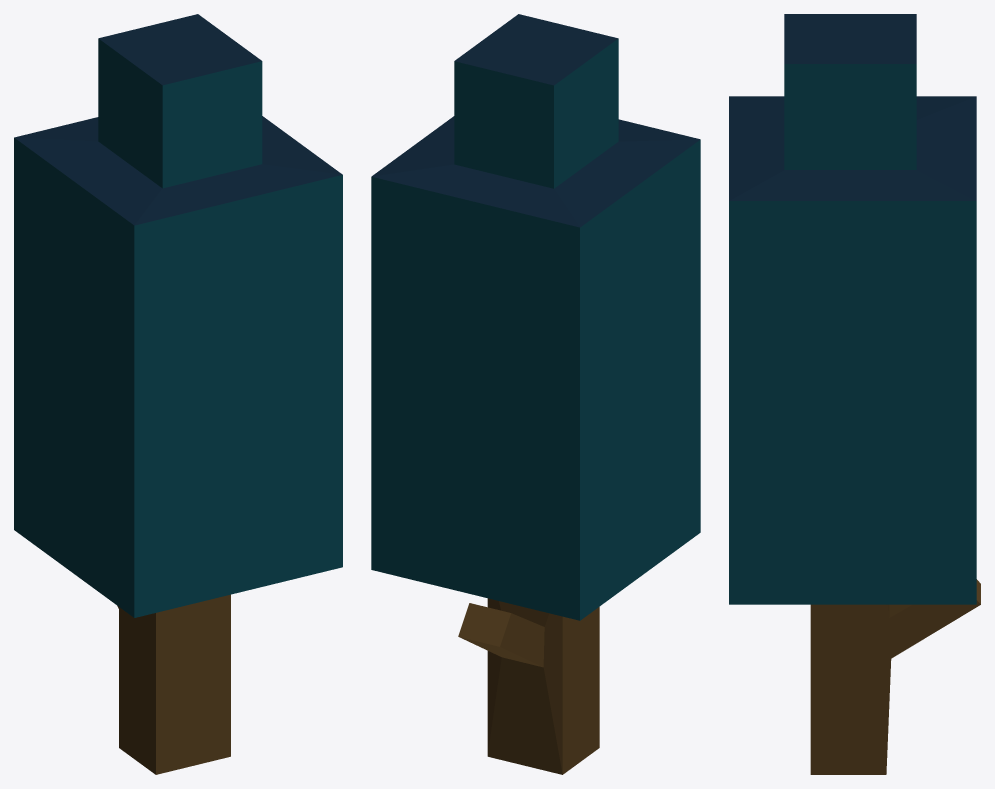
Rendered from Tree_Birch.fbx.
3 renders of one model, left to right at view 1: azimuth 30°, elevation 25°; view 2: azimuth 150°, elevation 25°; view 3: azimuth 270°, elevation 25°, orthographic. The views are drawn at different scales.
Parts seen in each view (by area): view 1: Tree3; view 2: Tree3; view 3: Tree3.
Boxes of the visible parts, left/top/right/bottom form: Tree3: left=14, top=14, right=342, bottom=774; Tree3: left=371, top=14, right=700, bottom=774; Tree3: left=729, top=14, right=980, bottom=774.
Size of the model in its own units: 129 by 416 by 132.
